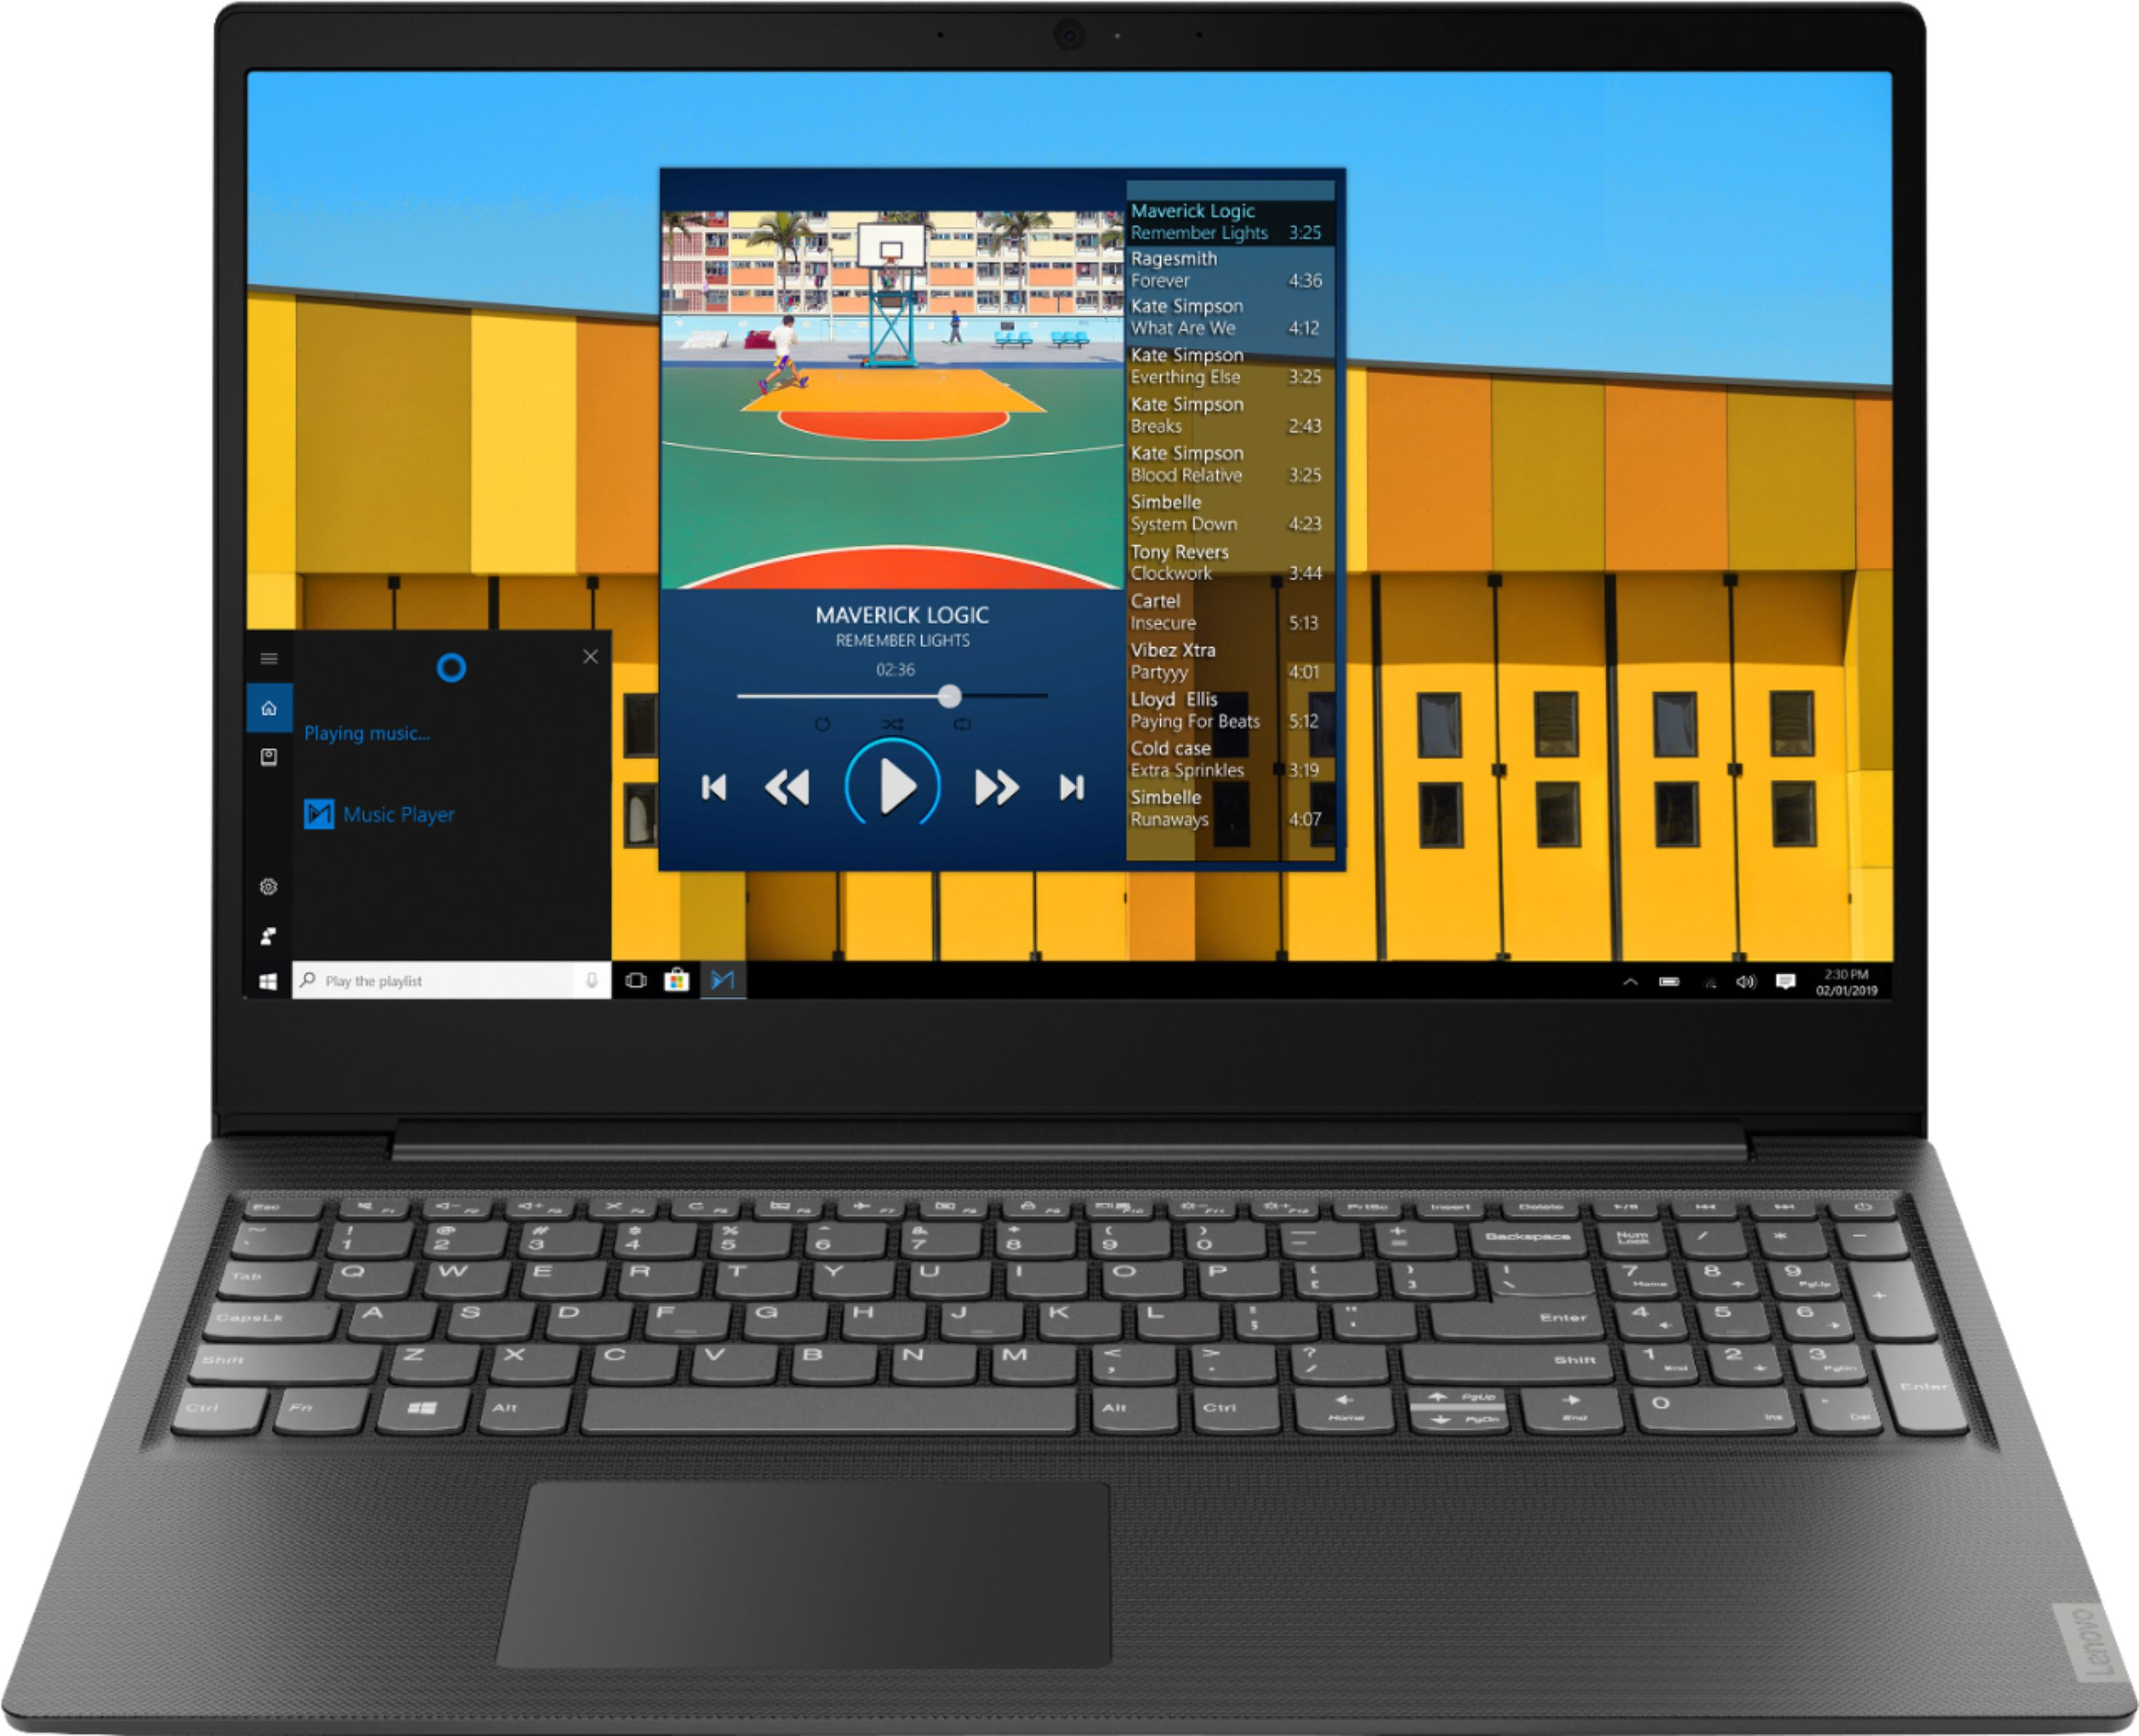Laptop: (5, 11, 2132, 1736)
